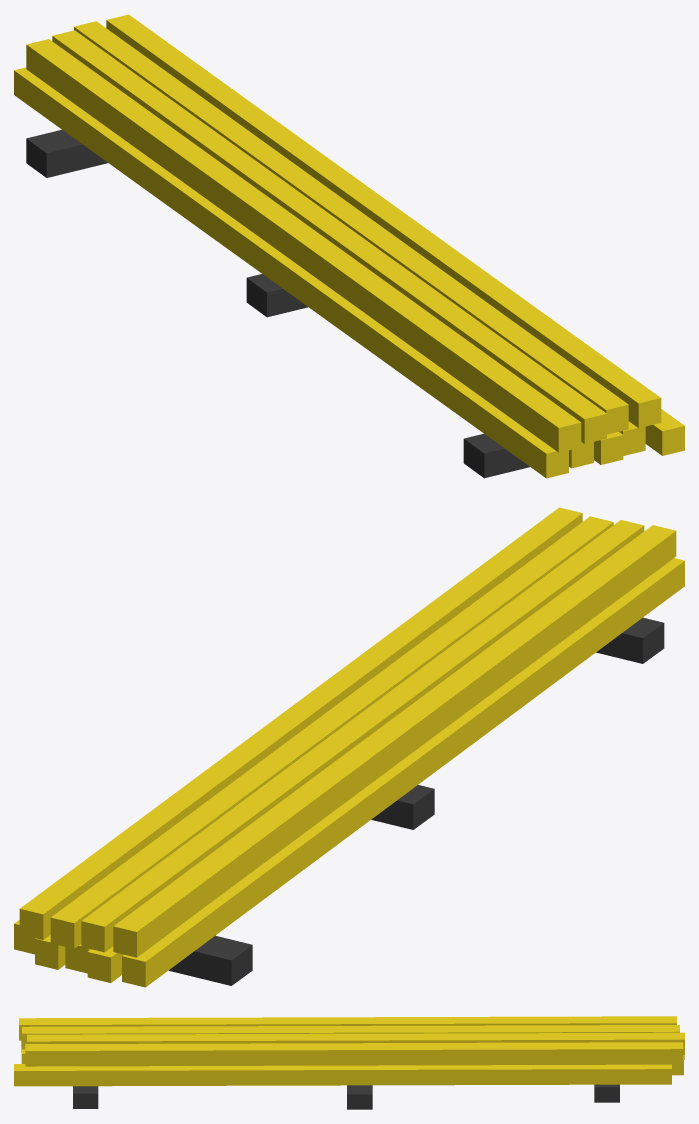
The model's file is planks_yellow.glb.
3 renders of one model, top to bottom at view 1: azimuth 30°, elevation 25°; view 2: azimuth 150°, elevation 25°; view 3: azimuth 270°, elevation 25°, orthographic. The views are drawn at different scales.
Parts seen in each view (by area): view 1: Planks_Yellow; view 2: Planks_Yellow; view 3: Planks_Yellow.
Boxes of the visible parts, bbox=[...] form: Planks_Yellow: bbox=[14, 14, 684, 478]; Planks_Yellow: bbox=[14, 507, 684, 987]; Planks_Yellow: bbox=[14, 1016, 684, 1109].
Bounding box in the file's own units: 1.29 × 0.4578 × 6.
Materials: 1 (1 with a texture image).
